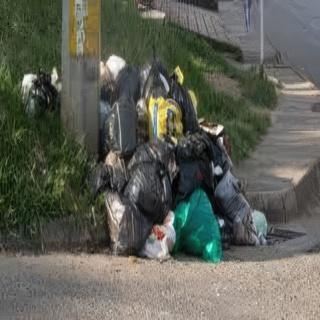Garbage: (173, 188, 224, 261), (213, 170, 256, 244), (104, 189, 150, 257), (123, 160, 173, 220), (174, 131, 212, 201), (167, 71, 199, 132), (101, 97, 135, 154), (142, 210, 175, 261), (23, 70, 57, 117), (111, 63, 140, 109)
